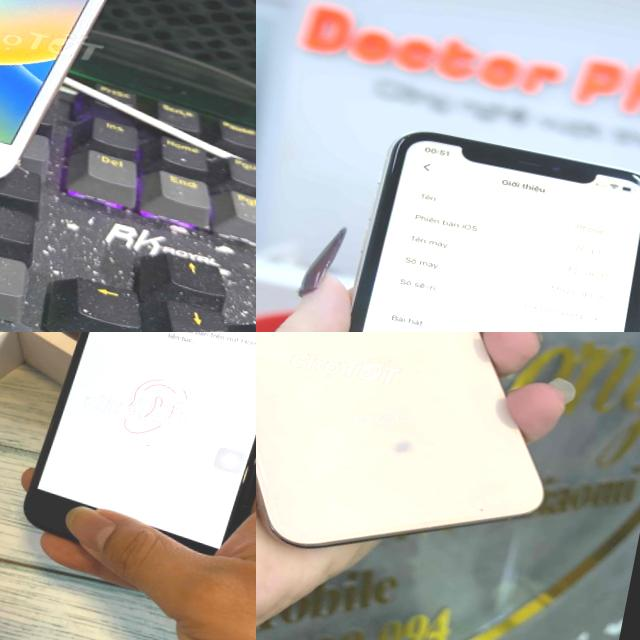gen_11: (311, 118, 640, 332)
gen_7_8: (11, 332, 256, 591)
gen_x_xs: (256, 332, 541, 547)
